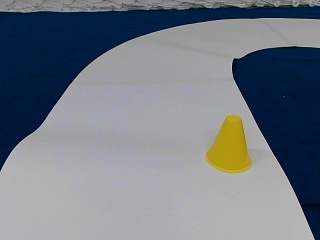cone: (206, 116, 252, 172)
